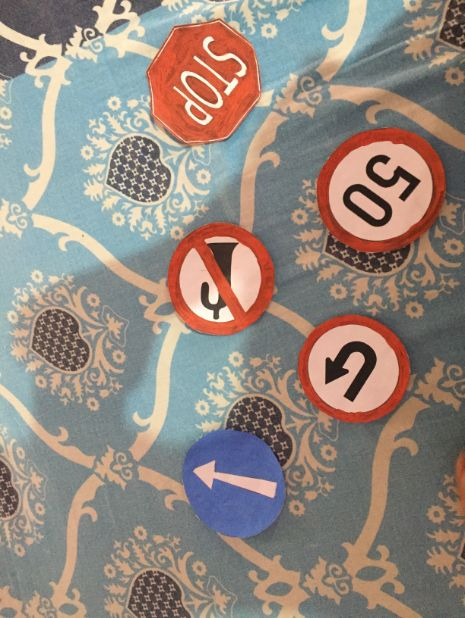keep-left: (182, 425, 296, 539)
no-horn: (167, 220, 279, 332)
stop: (147, 19, 274, 146)
u-turn: (296, 313, 413, 431)
